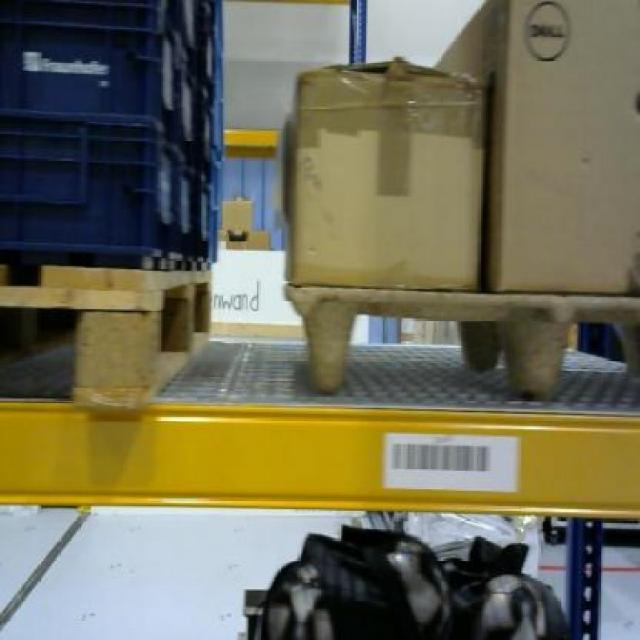box: (480, 0, 640, 288), (287, 57, 478, 288), (219, 196, 253, 232)
